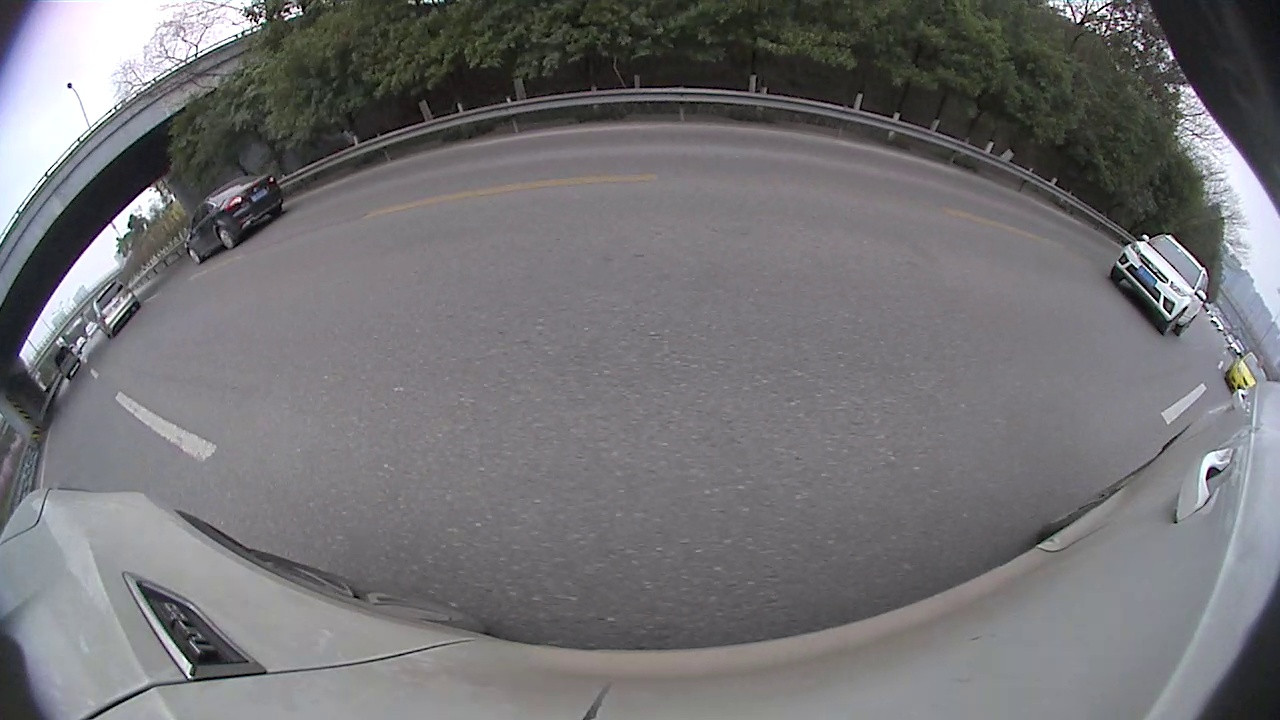car: (896, 168, 1259, 419), (225, 144, 501, 298), (606, 137, 710, 216), (848, 168, 940, 222), (506, 157, 578, 204), (703, 150, 740, 191), (565, 158, 601, 188)
front: (904, 213, 949, 267), (482, 188, 500, 231), (842, 184, 854, 211)
rear: (1103, 308, 1179, 399), (369, 217, 417, 279), (558, 180, 566, 200)
